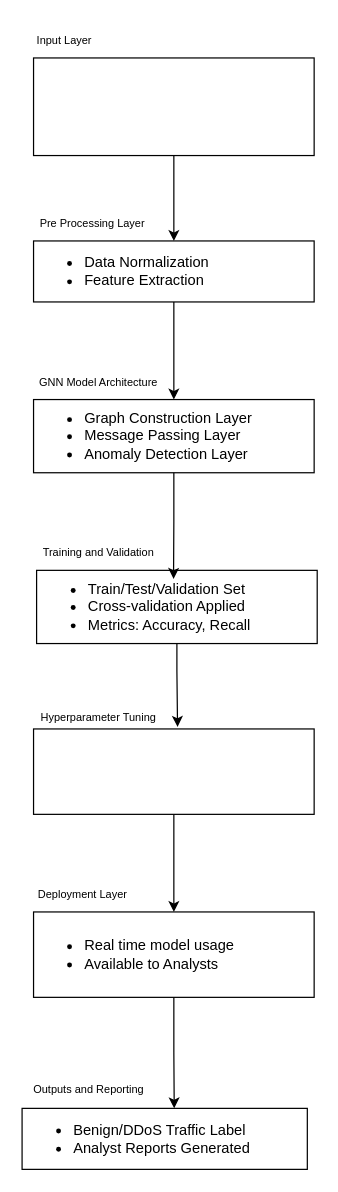
The diagram is 338 pixels wide and 1192 high, and some of its shapes have lost their labels. The centre of each missing label's shape, as x and y in pixels:
Learning Rate Adjustment Regularization Techniques: point 173,771
Traffic Flow Packet Size Network Topology: point 173,106
